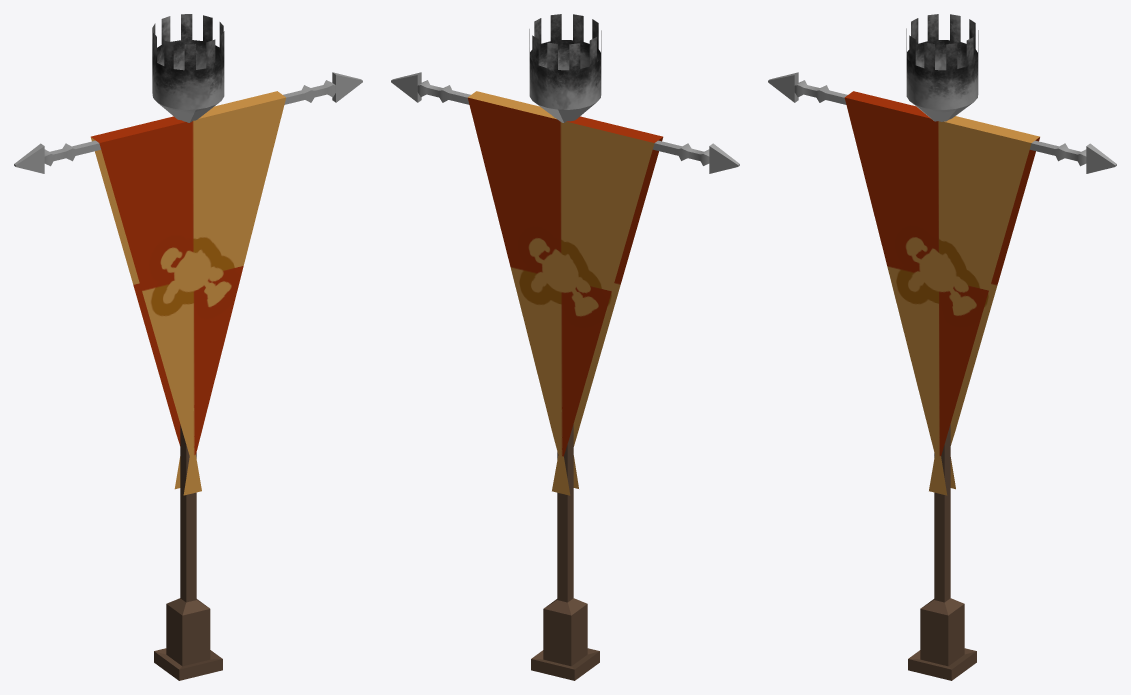
Rendered from mod_med_banner.fbx.
The picture shows the model from 3 angles, left to right: view 1: azimuth 30°, elevation 25°; view 2: azimuth 150°, elevation 25°; view 3: azimuth 330°, elevation 25°; orthographic projection.
Visible parts, largest first — view 1: polySurface2; view 2: polySurface2; view 3: polySurface2.
Part boxes in pixels (x1,y1,x2,y2): polySurface2: (14,14,362,680); polySurface2: (391,14,739,680); polySurface2: (768,14,1116,680).
Bounding box in the file's own units: 454 × 796 × 81.89.
